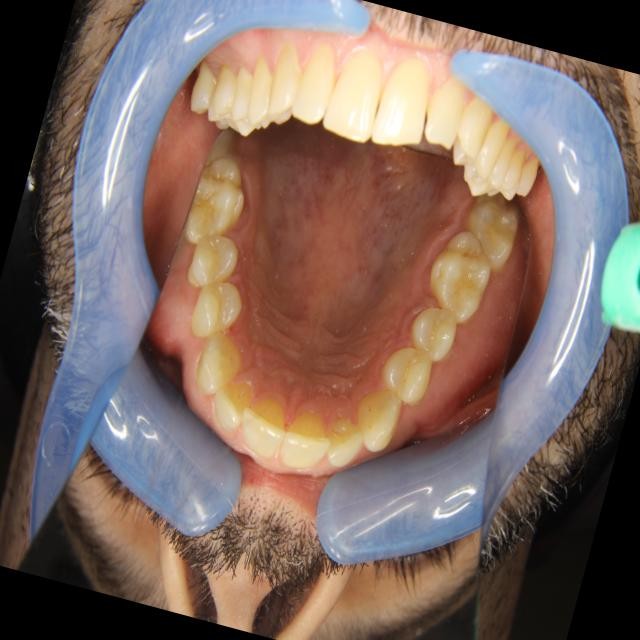tooth: (174, 142, 260, 258), (417, 220, 503, 330), (449, 182, 529, 279), (341, 374, 411, 463), (229, 380, 298, 468), (371, 330, 442, 413), (183, 322, 252, 407), (272, 404, 341, 487), (180, 271, 250, 351), (180, 222, 247, 300), (402, 291, 466, 368), (316, 403, 372, 476), (201, 372, 258, 441)
